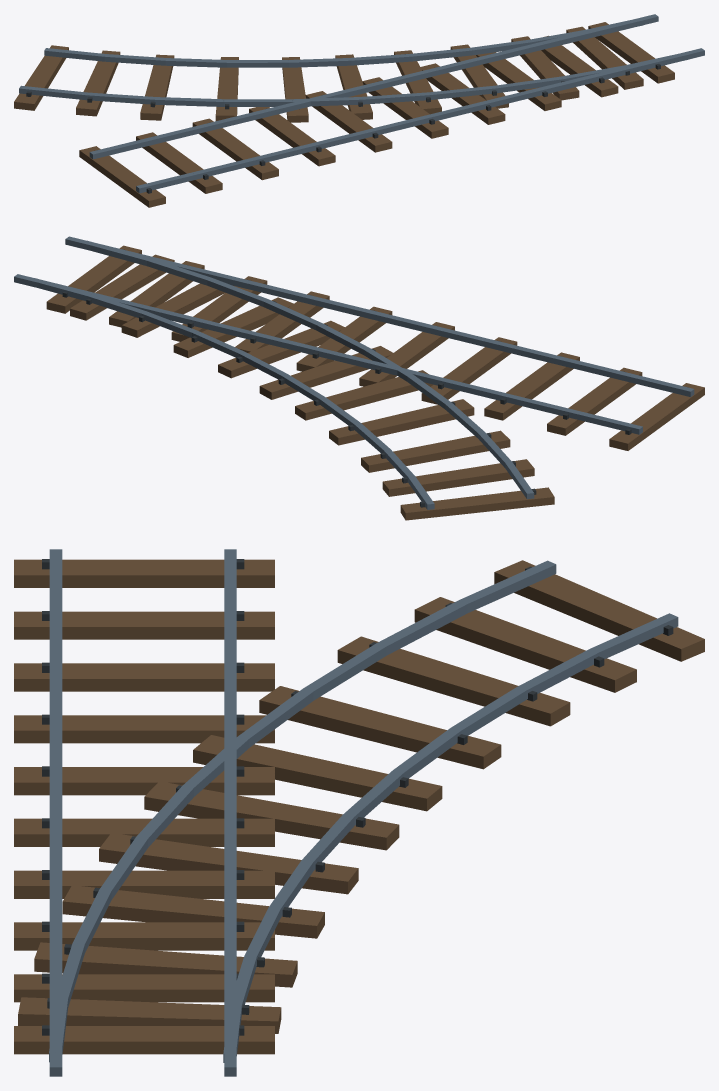
Rendered from TracksIntersectionInLeft.FBX.
3 renders of one model, top to bottom at view 1: azimuth 30°, elevation 25°; view 2: azimuth 150°, elevation 25°; view 3: azimuth 270°, elevation 25°, orthographic. The views are drawn at different scales.
Visible parts, largest first — view 1: Box028; view 2: Box028; view 3: Box028.
Part boxes in pixels (bbox=[...]): Box028: bbox=[14, 14, 704, 207]; Box028: bbox=[14, 236, 704, 520]; Box028: bbox=[14, 549, 704, 1076].
Size of the model in its own units: 10 by 0.2086 by 5.64.
